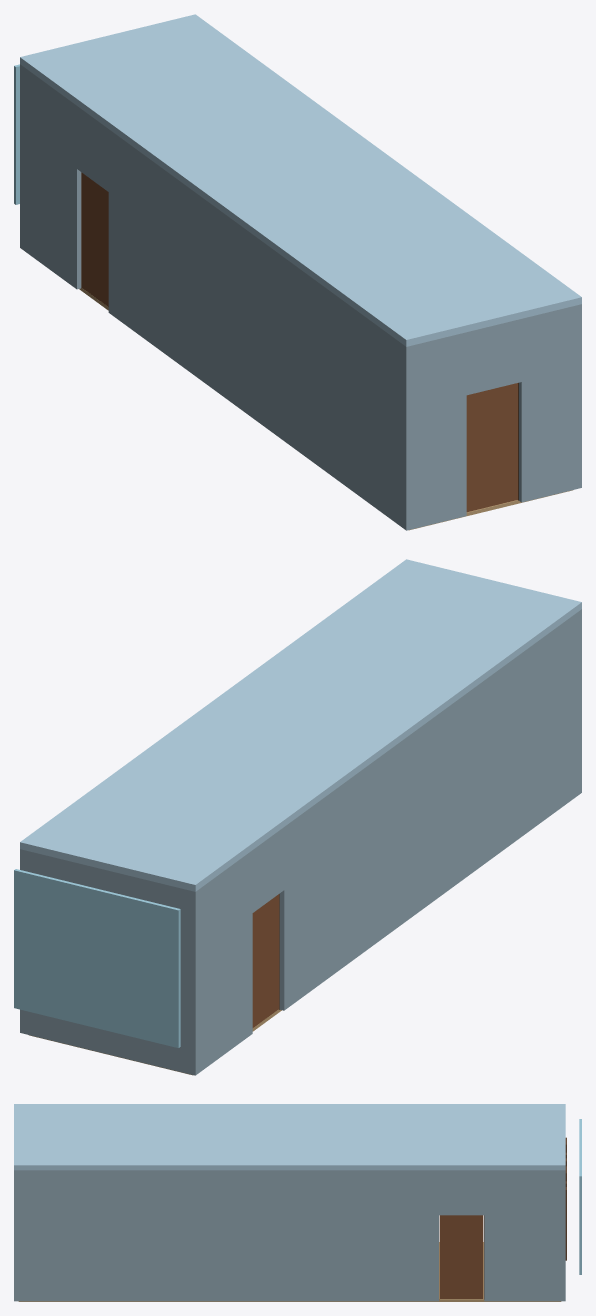
The model's file is room_corridor.glb.
The picture shows the model from 3 angles, top to bottom: view 1: azimuth 30°, elevation 25°; view 2: azimuth 150°, elevation 25°; view 3: azimuth 270°, elevation 25°; orthographic projection. The views are drawn at different scales.
Visible parts, largest first — view 1: WALLS, CEILING, DOOR_bath, DOOR_living, VIEW_window_s; view 2: WALLS, CEILING, VIEW_window_s, DOOR_living; view 3: WALLS, CEILING, DOOR_kitchen, FLOOR_visible, VIEW_window_s, FRAMES.
Boxes of the visible parts, box(x1,y1,x2,y2) form: WALLS: box(20, 64, 581, 530); CEILING: box(20, 14, 581, 346); DOOR_bath: box(466, 383, 517, 512); DOOR_living: box(82, 173, 108, 306); VIEW_window_s: box(14, 64, 19, 204); WALLS: box(20, 609, 581, 1075); CEILING: box(20, 559, 581, 891); VIEW_window_s: box(14, 869, 180, 1047); DOOR_living: box(252, 894, 279, 1027); WALLS: box(14, 1170, 565, 1301); CEILING: box(14, 1104, 565, 1170); DOOR_kitchen: box(440, 1215, 483, 1298); FLOOR_visible: box(18, 1242, 561, 1301); VIEW_window_s: box(579, 1119, 581, 1274); FRAMES: box(439, 1137, 566, 1299).
Size of the model in its own units: 3.2 by 3.38 by 12.56.
